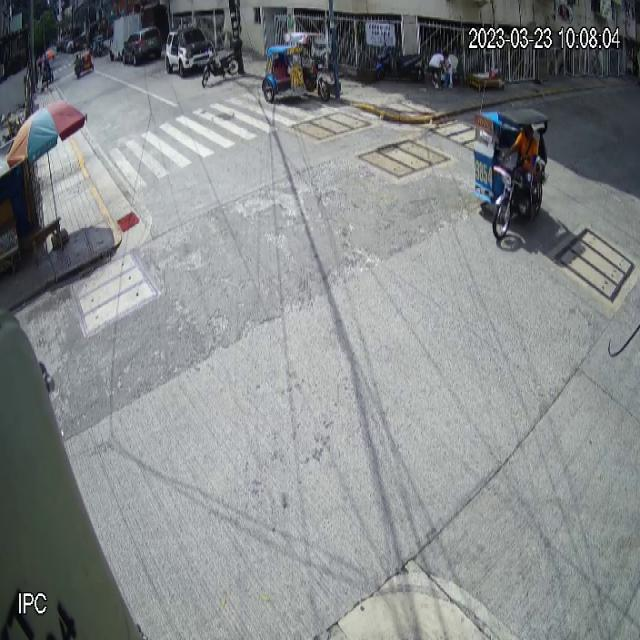Tricycle: (472, 107, 550, 240), (262, 31, 331, 104)
